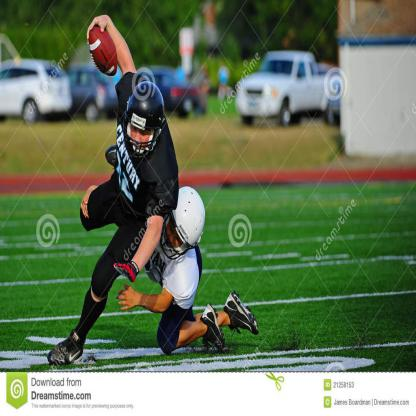face: (130, 110, 153, 160), (164, 207, 187, 255)
